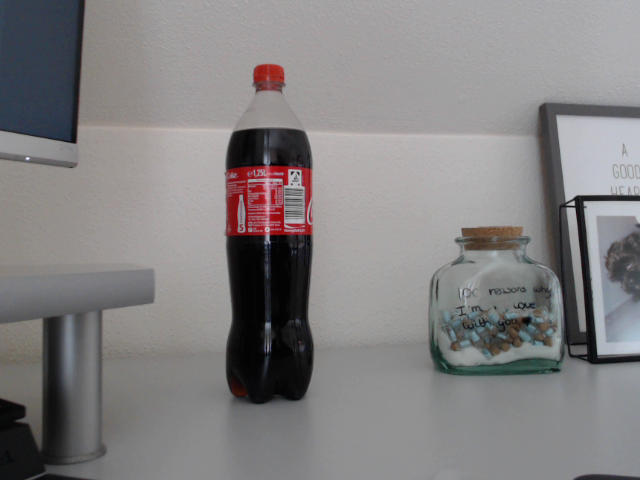bottle: (224, 63, 315, 405)
